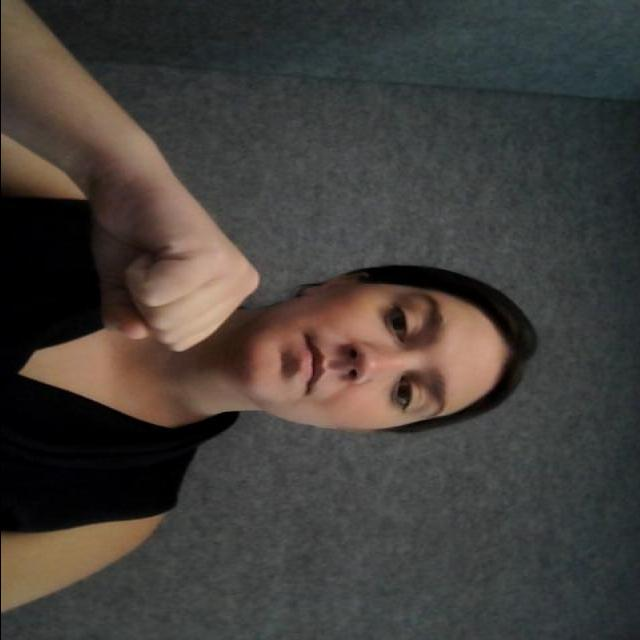Rock: (66, 166, 262, 362)
